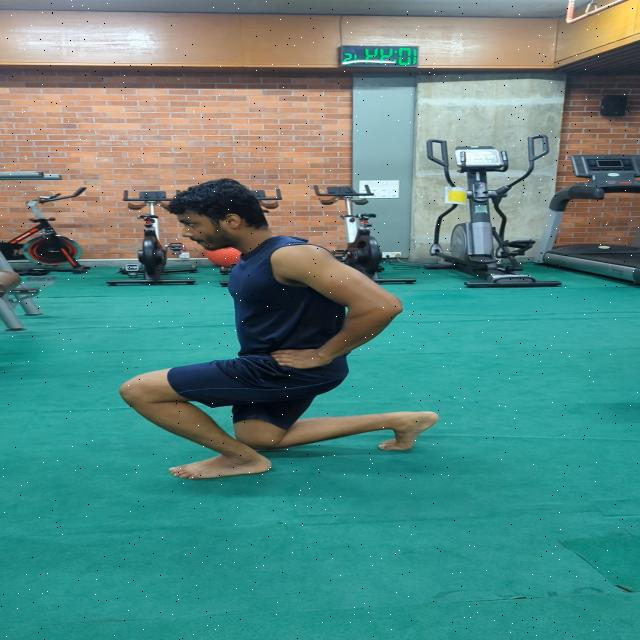Normal_Lunges: (108, 164, 452, 505)
